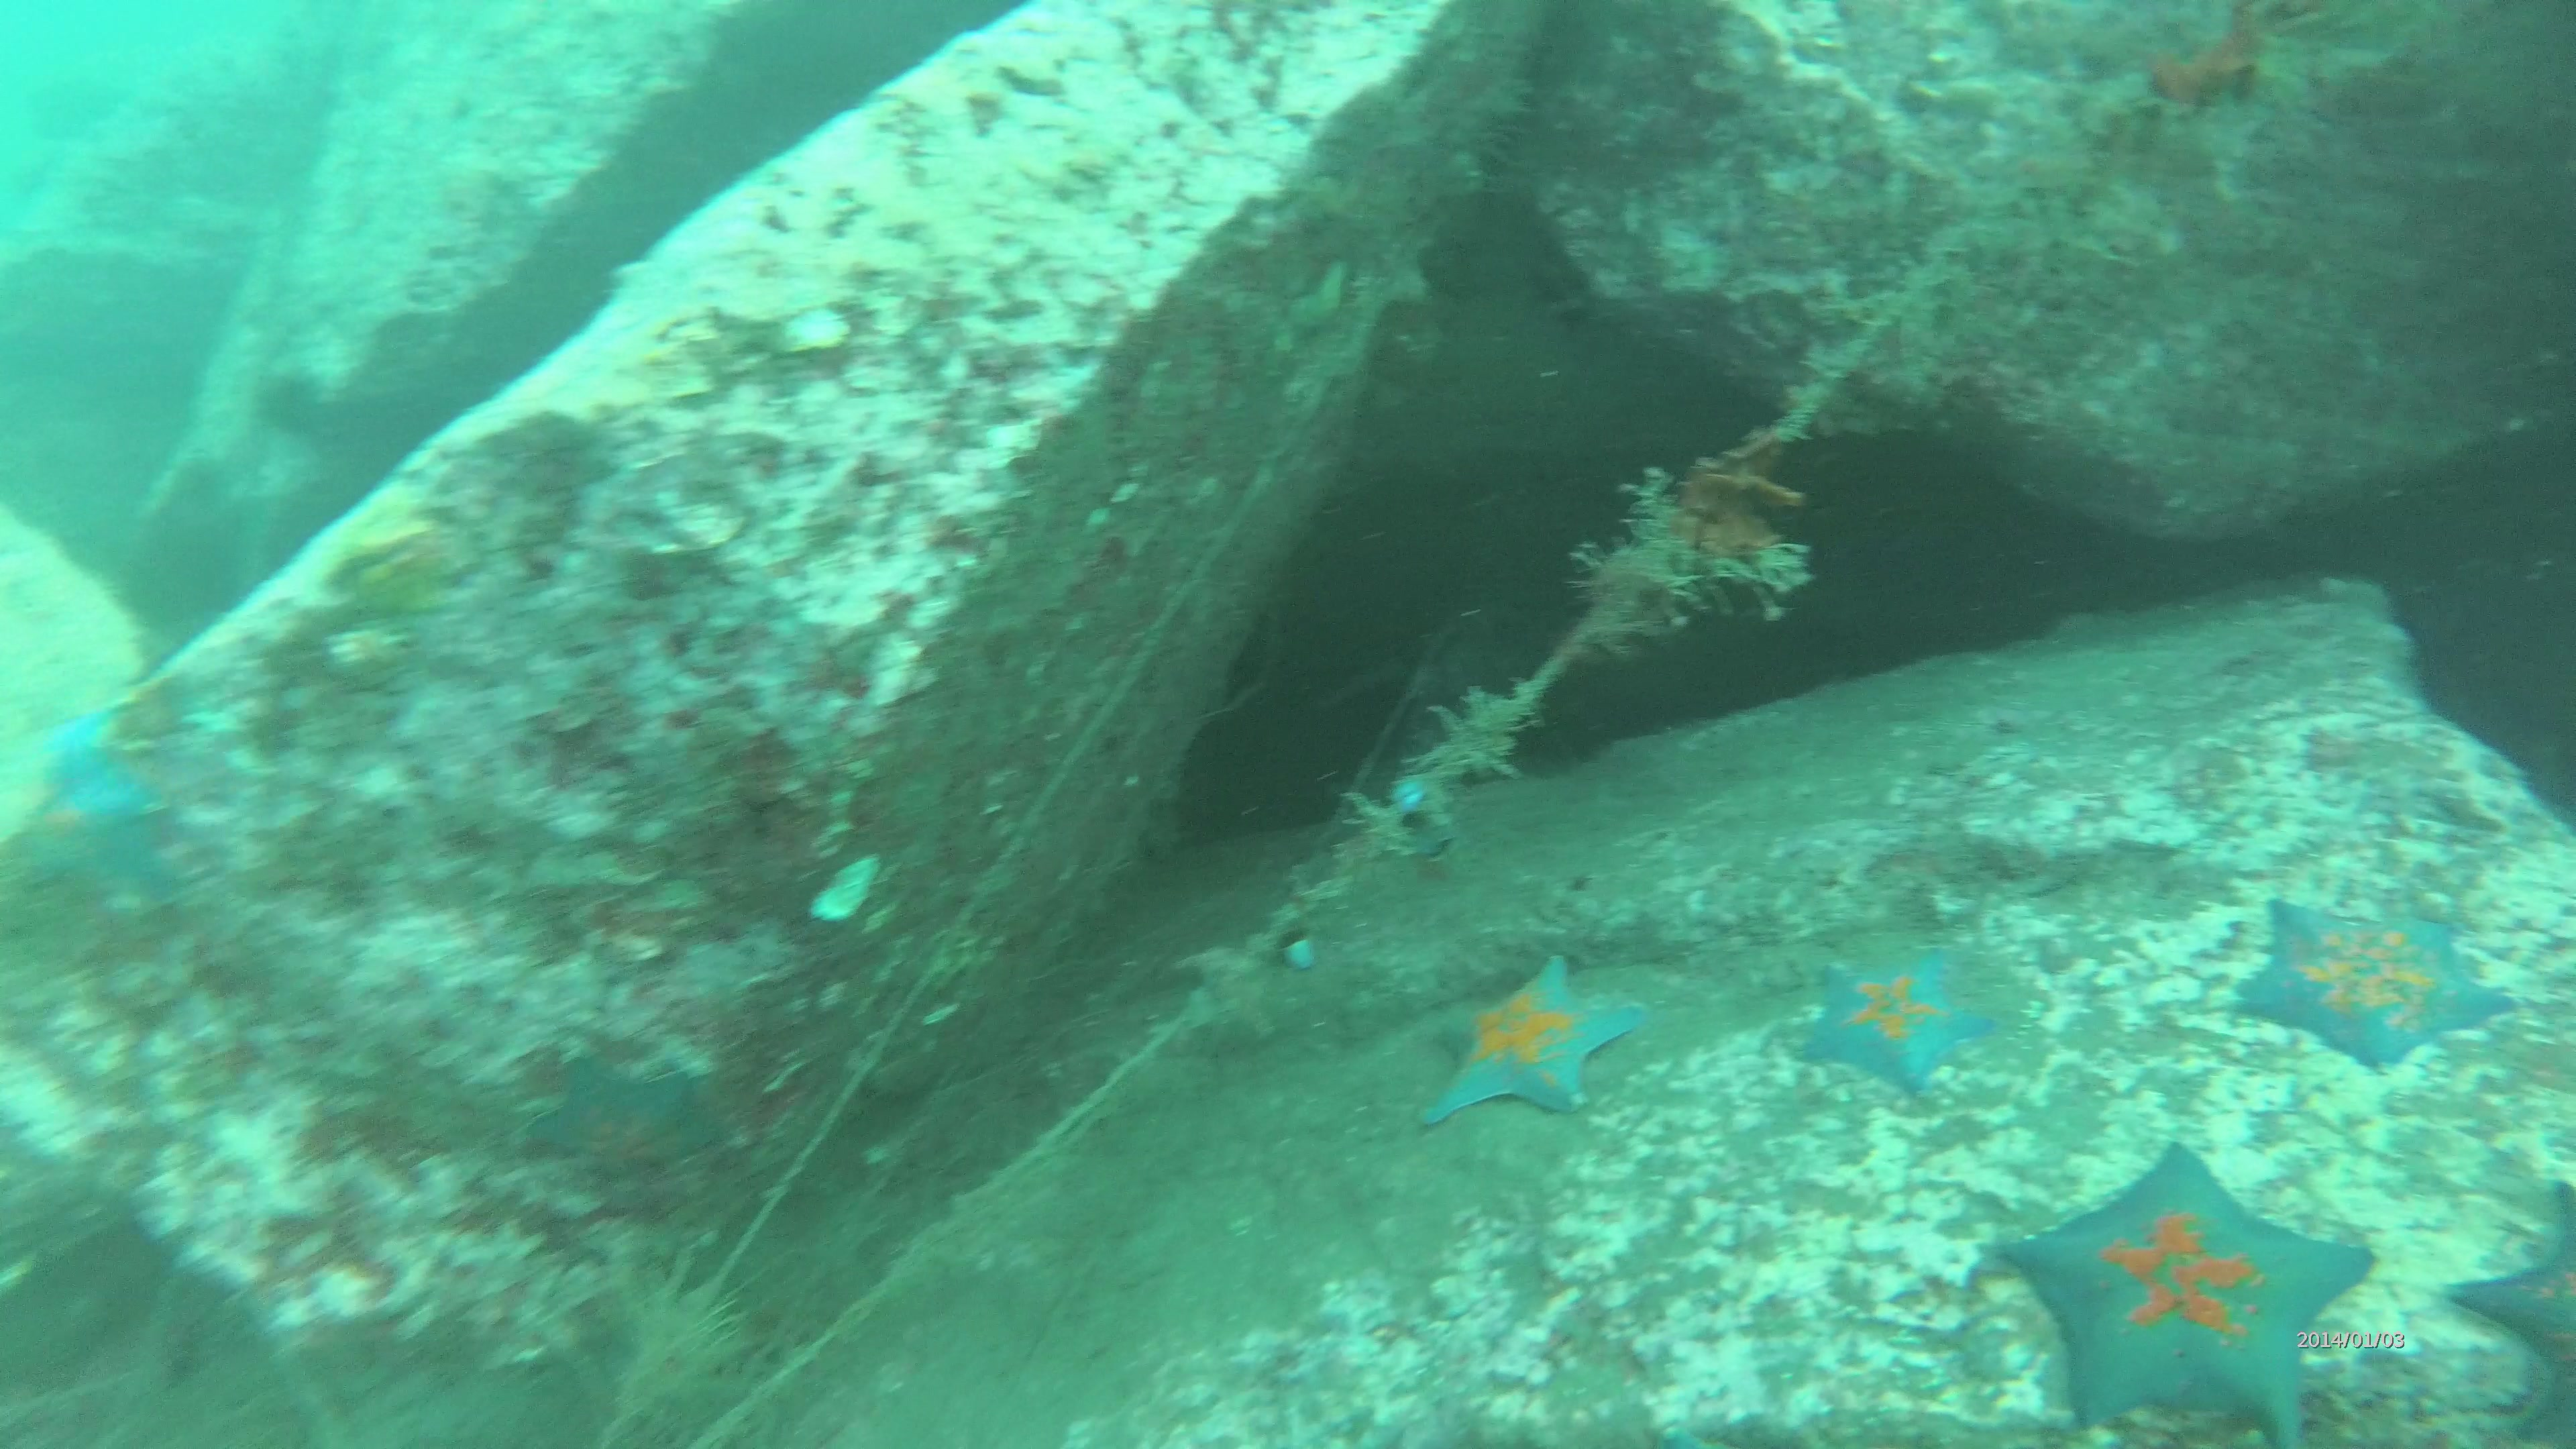starfish: (1989, 1138, 2373, 1449), (2229, 897, 2514, 1074), (5, 702, 193, 918), (1424, 948, 1642, 1116), (527, 1049, 722, 1228), (2450, 1166, 2576, 1442), (1790, 947, 1990, 1099)
